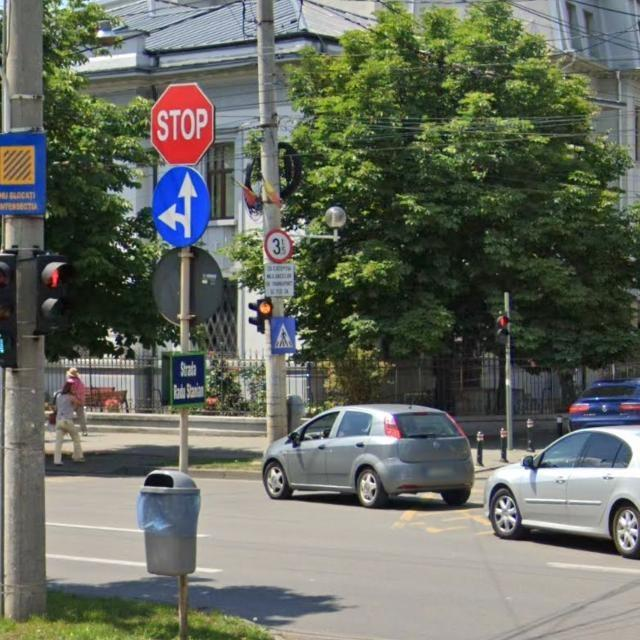info_crosswalk: (269, 315, 297, 354)
prio_stop: (151, 83, 217, 169)
